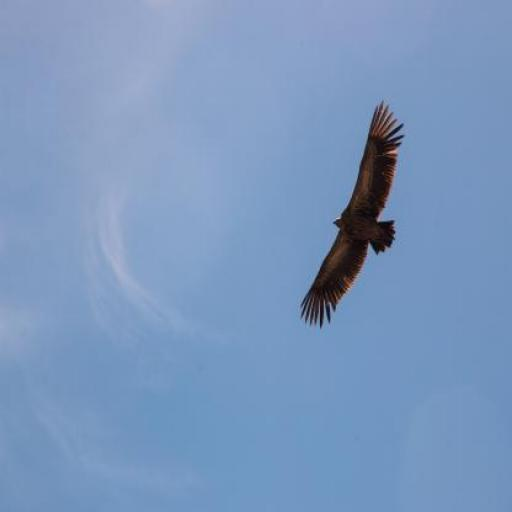bird: (300, 100, 406, 324)
